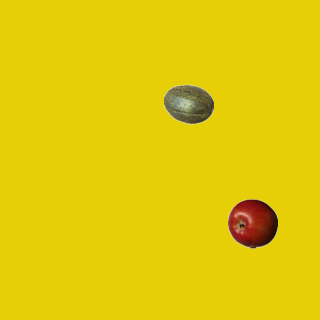Apple Braeburn: (227, 198, 277, 248)
Melon Piel de Sapo: (163, 79, 213, 129)
